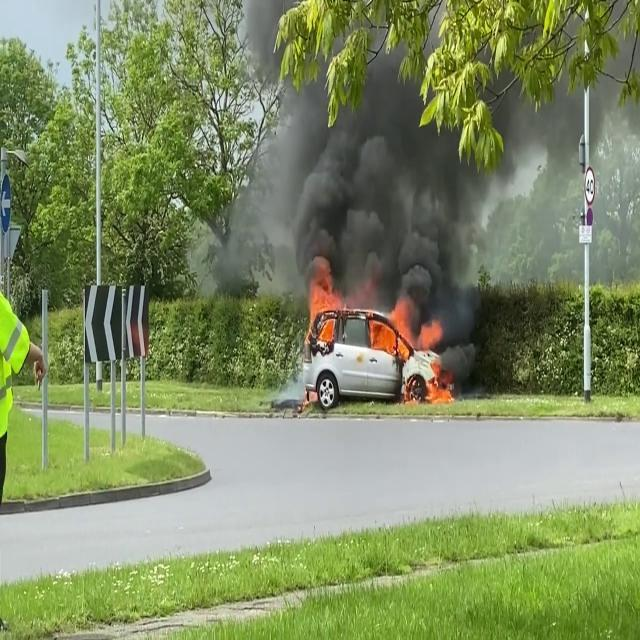Fire: (372, 296, 453, 400), (302, 261, 346, 346)
Smoke: (200, 32, 540, 314)
